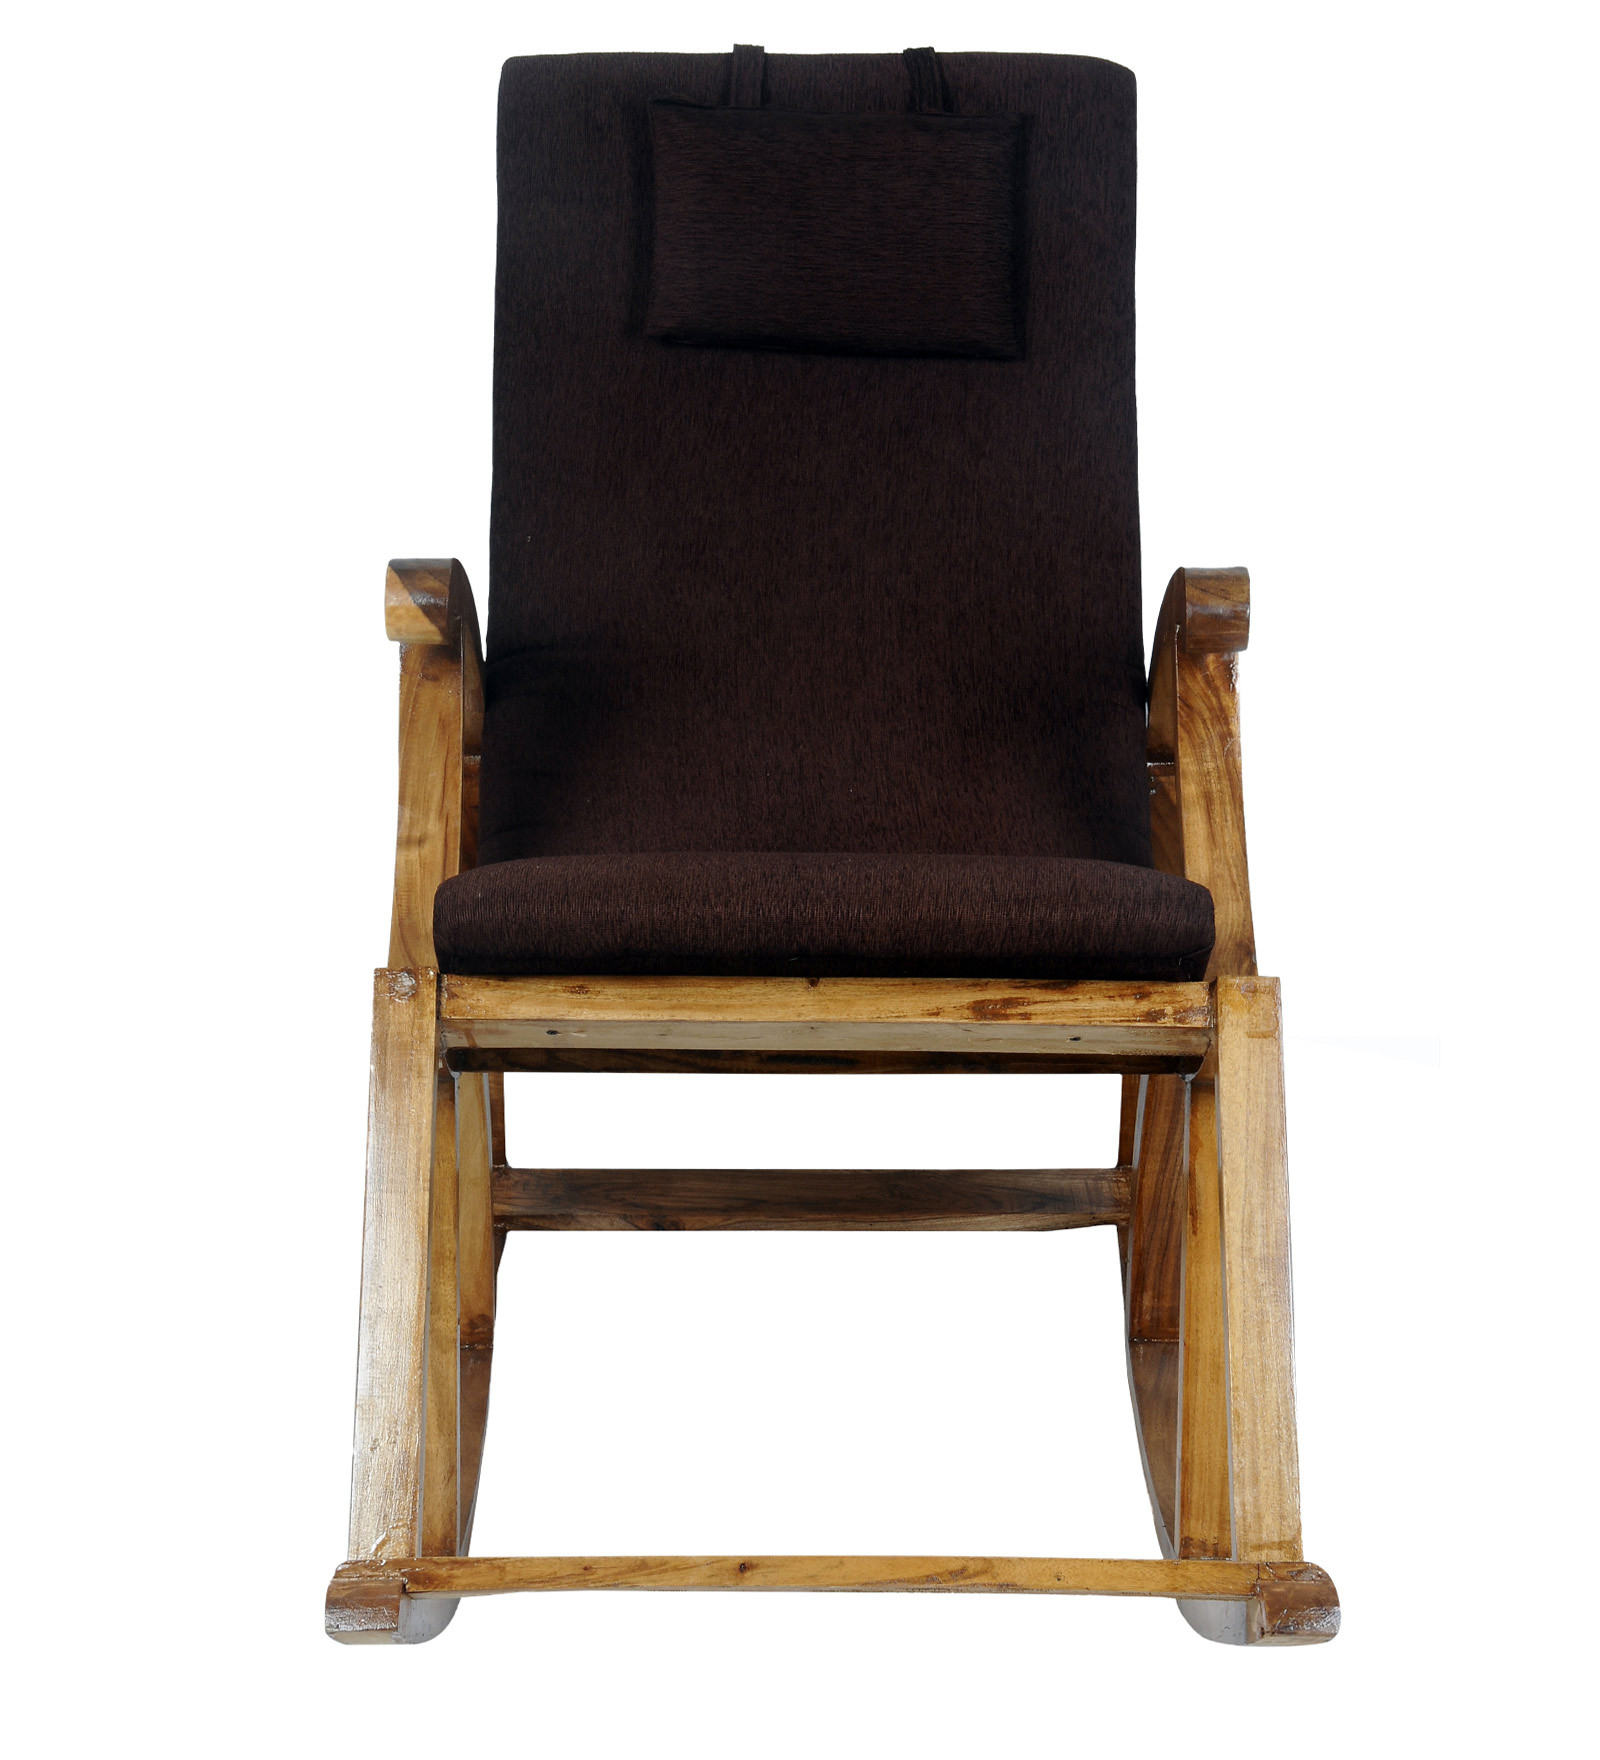Upholstered Teak Wood Rocking Chair in Natural Finish by Furniease: (322, 18, 1376, 1729)
